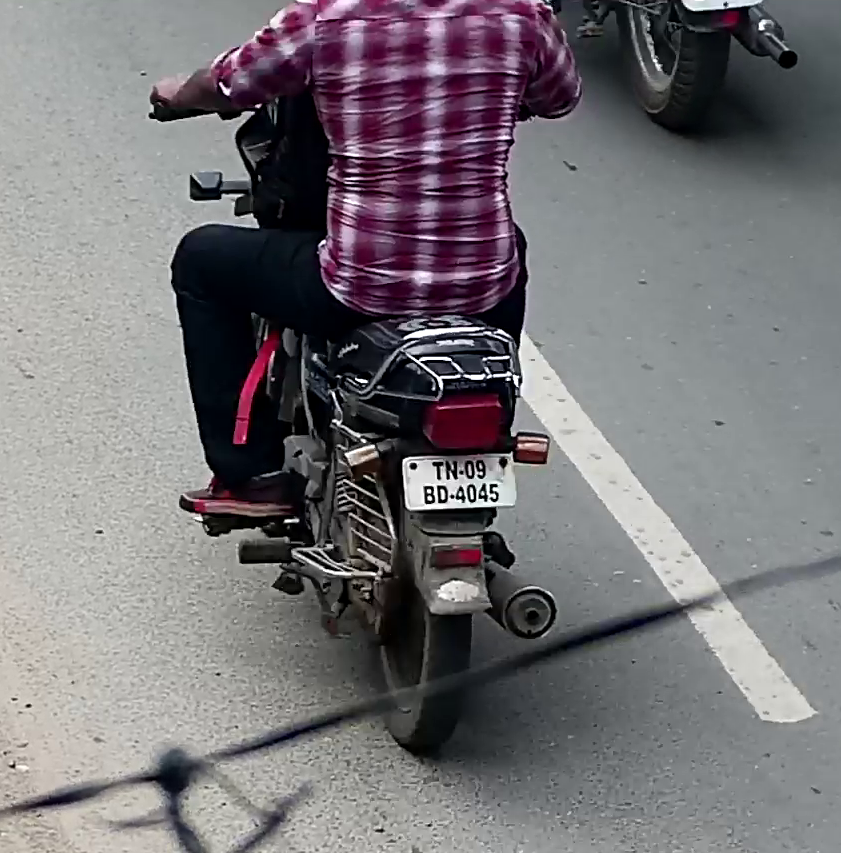-: (449, 494, 454, 500), (459, 470, 464, 475)
0: (467, 483, 477, 503), (465, 460, 475, 479)
4: (478, 482, 488, 502), (455, 485, 466, 503)
5: (489, 483, 499, 502)
9: (475, 459, 486, 479)
B: (423, 485, 436, 505)
D: (436, 484, 448, 504)
N: (444, 460, 458, 481)
P16: (401, 451, 517, 511)
T: (432, 461, 444, 480)
